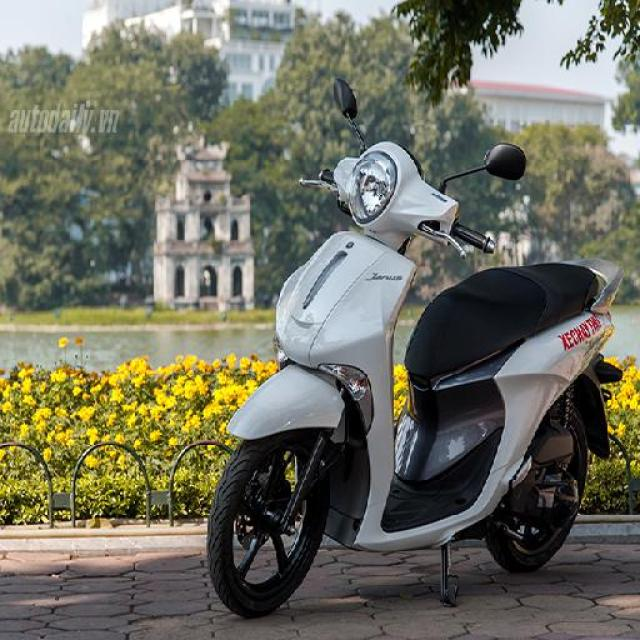All: (204, 74, 625, 620)
Head: (296, 139, 498, 254)
Tail: (551, 249, 623, 312)
